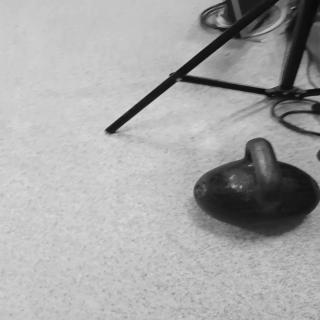girya: (195, 138, 320, 229)
